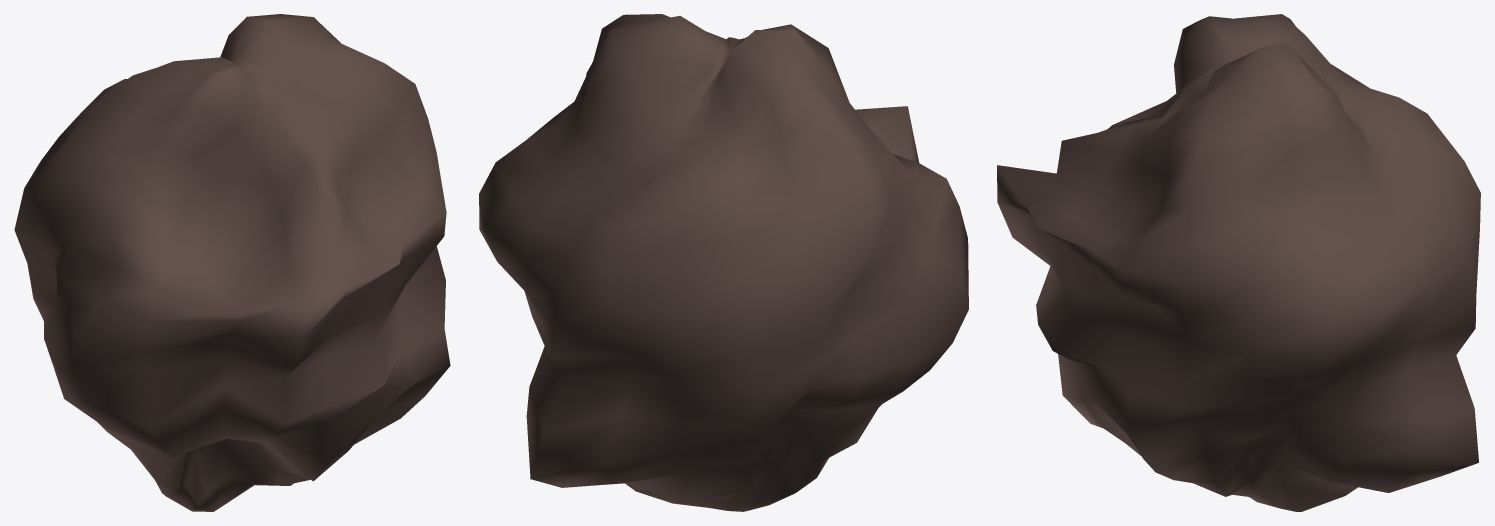
File: comet.fbx
The picture shows the model from 3 angles, left to right: view 1: azimuth 30°, elevation 25°; view 2: azimuth 150°, elevation 25°; view 3: azimuth 270°, elevation 25°; orthographic projection. The views are drawn at different scales.
Visible parts, largest first — view 1: pSphere1; view 2: pSphere1; view 3: pSphere1.
Part boxes in pixels (<box>): pSphere1: <box>14,14,450,511</box>; pSphere1: <box>479,14,968,511</box>; pSphere1: <box>997,14,1480,511</box>.
Size of the model in its own units: 2.59 by 2.89 by 2.61.
